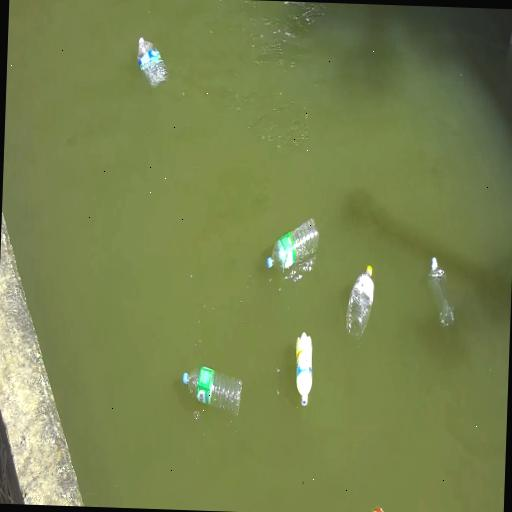plastic: (182, 367, 240, 414), (266, 218, 317, 271), (345, 266, 373, 342), (428, 258, 453, 326), (137, 37, 167, 88), (295, 332, 311, 406), (372, 508, 383, 511)
